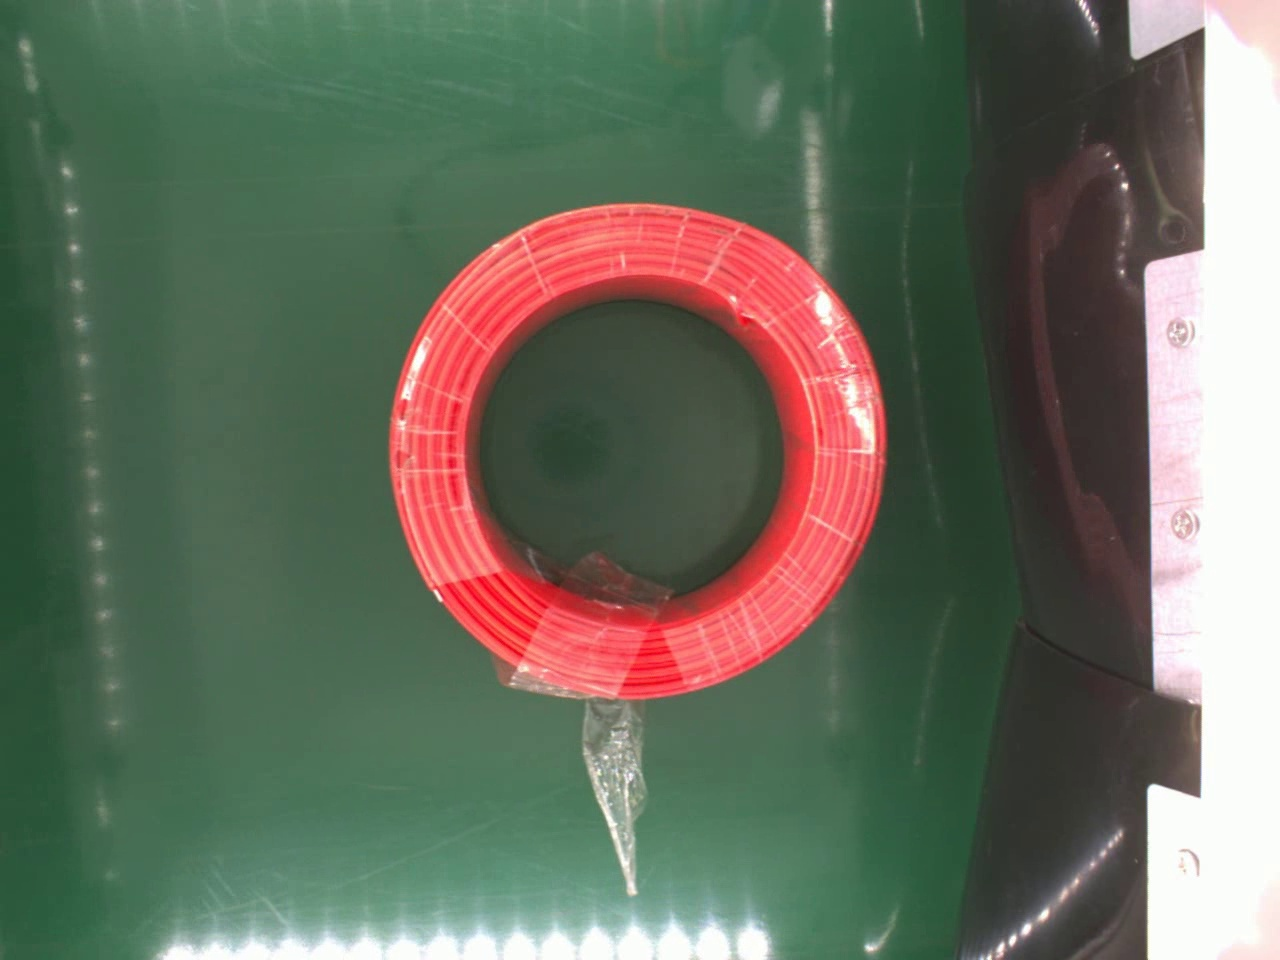red: (384, 200, 887, 702)
